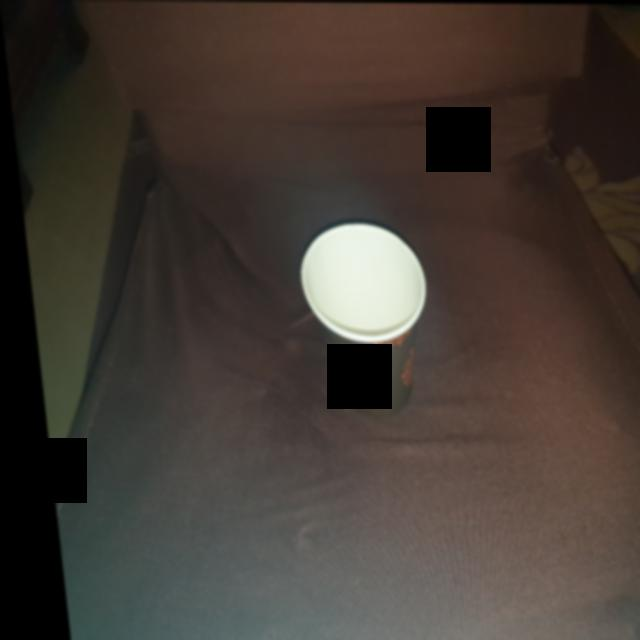cups: (285, 221, 433, 413)
